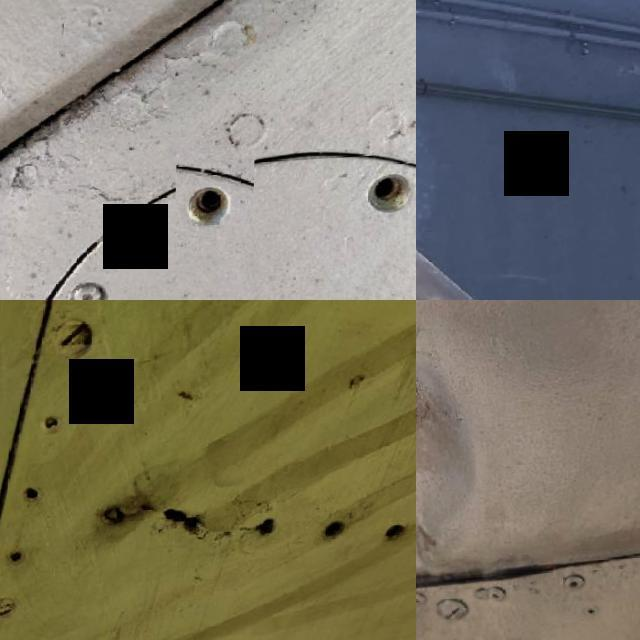Crack: (154, 492, 227, 556)
Dent: (416, 332, 508, 610)
Missing_Fastener: (177, 162, 257, 250), (349, 155, 416, 240)
